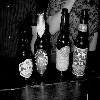beer: (53, 8, 73, 75)
